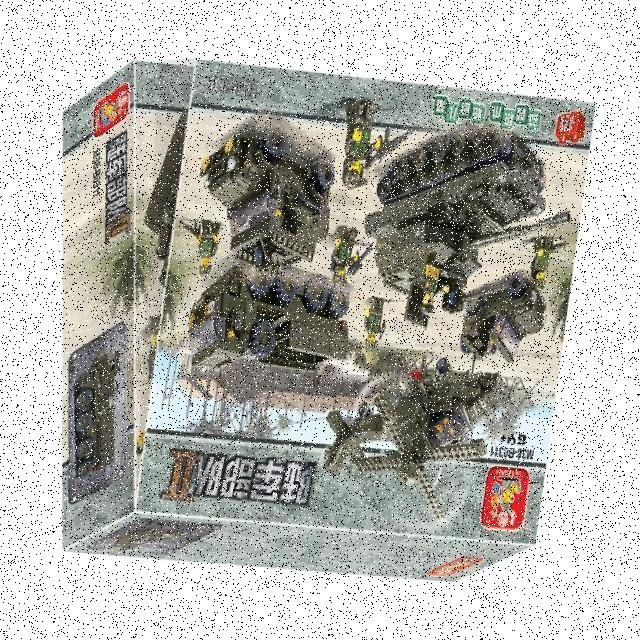MIL_MBT: (380, 146, 538, 268)
